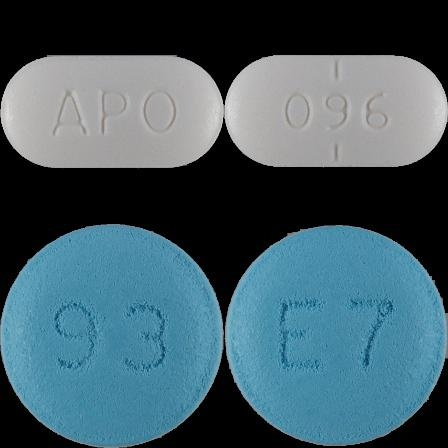42291-260: (0, 0, 224, 224)
